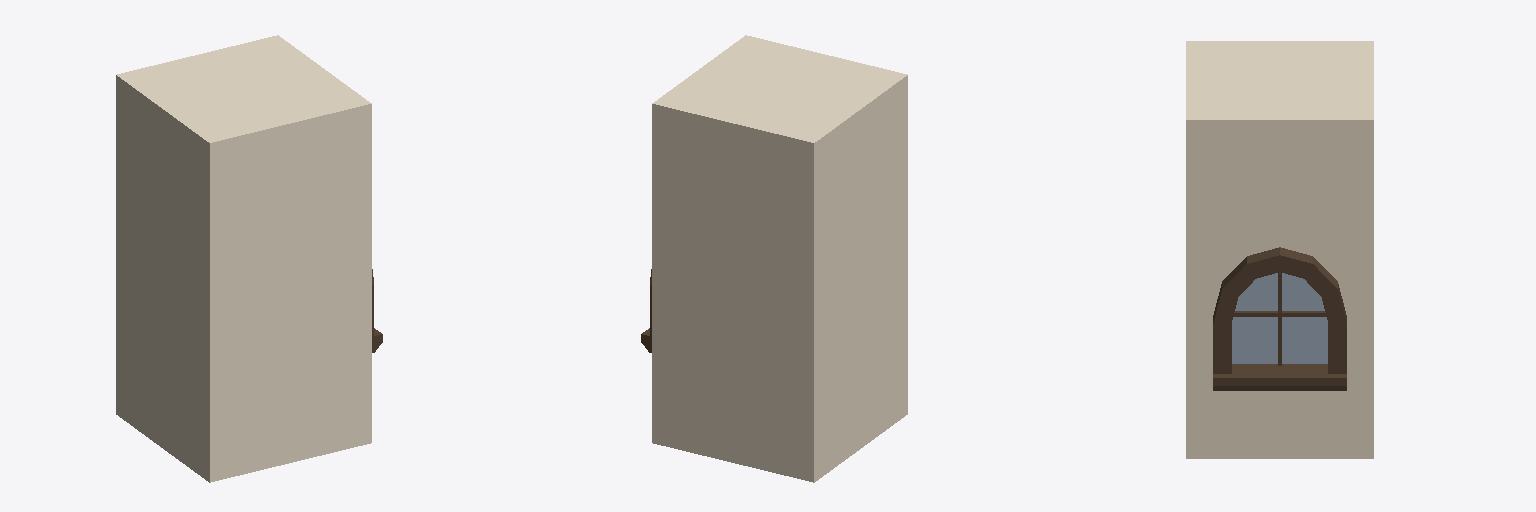
The model's file is Stucco_Window_Rounded_Narrow_Tall.obj.
3 renders of one model, left to right at view 1: azimuth 30°, elevation 25°; view 2: azimuth 150°, elevation 25°; view 3: azimuth 270°, elevation 25°, orthographic.
Parts seen in each view (by area): view 1: object2; view 2: object2; view 3: object2, object3, object1.
Part boxes in pixels (bbox=[...]): object2: bbox=[116, 35, 371, 482]; object2: bbox=[652, 35, 907, 482]; object2: bbox=[1186, 41, 1373, 458]; object3: bbox=[1213, 247, 1346, 390]; object1: bbox=[1233, 272, 1326, 365].
Size of the model in its own units: 1.15 by 2 by 1.